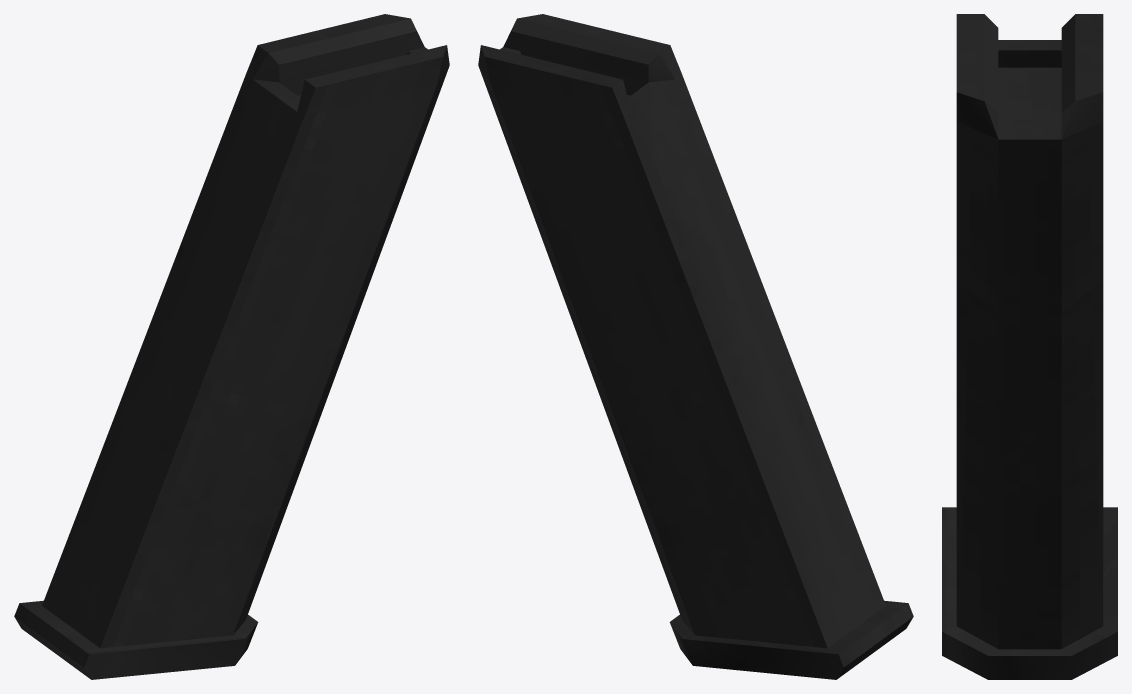
The model's file is pistol_mp_1_mag_empty.glb.
The picture shows the model from 3 angles, left to right: view 1: azimuth 30°, elevation 25°; view 2: azimuth 150°, elevation 25°; view 3: azimuth 270°, elevation 25°; orthographic projection. The views are drawn at different scales.
Visible parts, largest first — view 1: pistol_mp_1_mag_empty; view 2: pistol_mp_1_mag_empty; view 3: pistol_mp_1_mag_empty.
Part boxes in pixels (x1,y1,x2,y2): pistol_mp_1_mag_empty: [14, 14, 449, 679]; pistol_mp_1_mag_empty: [478, 14, 913, 679]; pistol_mp_1_mag_empty: [942, 14, 1117, 679].
Bounding box in the file's own units: 0.1153 × 0.1581 × 0.036.
1 material, 1 textured.
